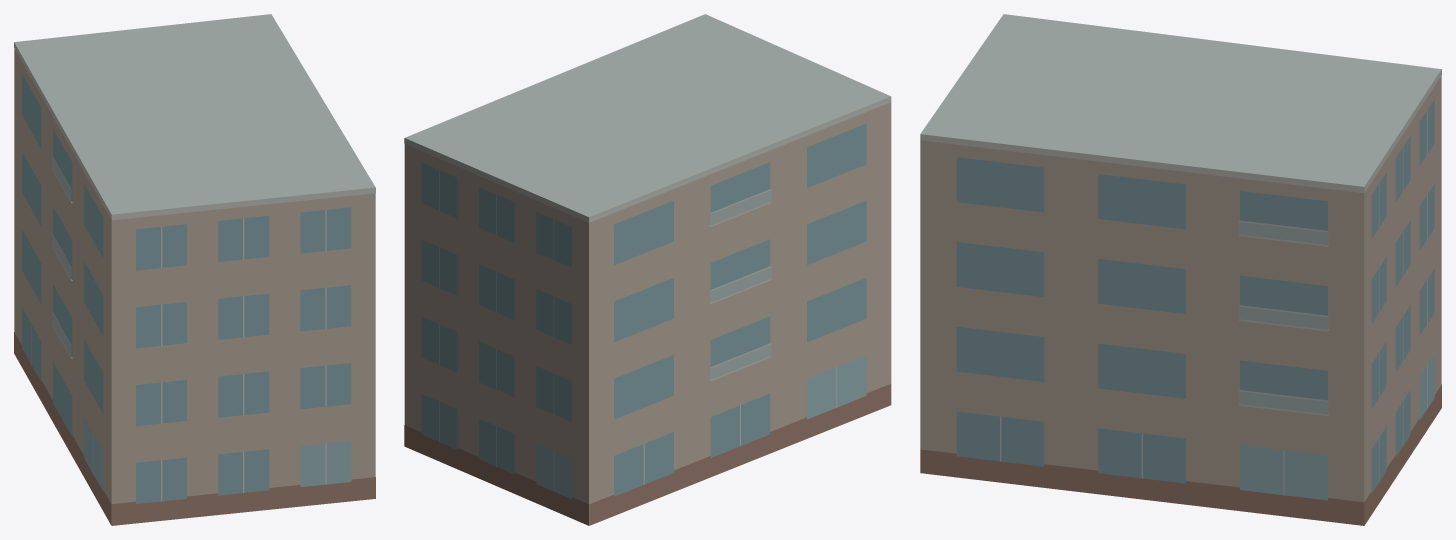
Rendered from survey-upis-33022918.glb.
3 renders of one model, left to right at view 1: azimuth 30°, elevation 25°; view 2: azimuth 150°, elevation 25°; view 3: azimuth 270°, elevation 25°, orthographic. The views are drawn at different scales.
Parts seen in each view (by area): view 1: survey-upis-33022918.tmp; view 2: survey-upis-33022918.tmp; view 3: survey-upis-33022918.tmp.
Part boxes in pixels (x1,y1,x2,y2): survey-upis-33022918.tmp: (14,14,375,525); survey-upis-33022918.tmp: (404,14,891,525); survey-upis-33022918.tmp: (920,14,1441,525).
Bounding box in the file's own units: 14.56 × 13.3 × 18.55.
